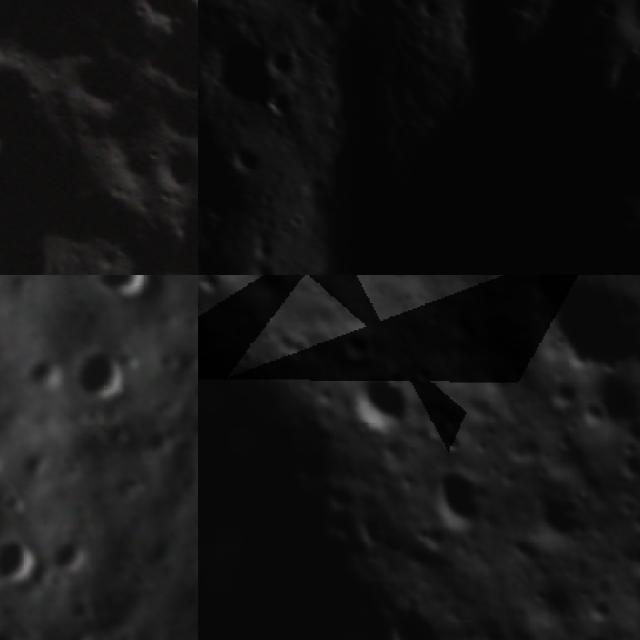crater: (280, 30, 640, 275), (44, 33, 150, 139), (0, 32, 74, 172), (407, 452, 503, 545), (129, 0, 198, 127), (86, 203, 198, 275), (338, 357, 427, 446), (515, 475, 604, 561), (572, 360, 640, 447), (140, 175, 198, 275), (208, 35, 276, 116), (66, 336, 133, 412), (102, 0, 198, 53), (367, 586, 460, 640), (144, 125, 198, 206), (528, 369, 588, 426), (331, 318, 388, 375), (89, 275, 162, 313), (0, 532, 45, 590), (262, 46, 306, 86), (605, 438, 640, 486), (301, 0, 347, 30), (232, 149, 270, 182), (198, 275, 234, 307), (263, 89, 296, 122), (594, 0, 627, 27), (419, 0, 447, 28), (349, 0, 381, 24), (572, 626, 621, 640), (396, 0, 421, 14)
